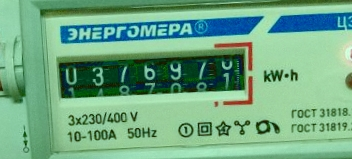0: (61, 62, 77, 84)
1: (219, 69, 232, 90)
3: (90, 64, 105, 86)
6: (140, 56, 157, 80)
7: (114, 59, 131, 84), (192, 56, 209, 80)
9: (166, 56, 182, 79)
screen: (46, 29, 260, 119)
